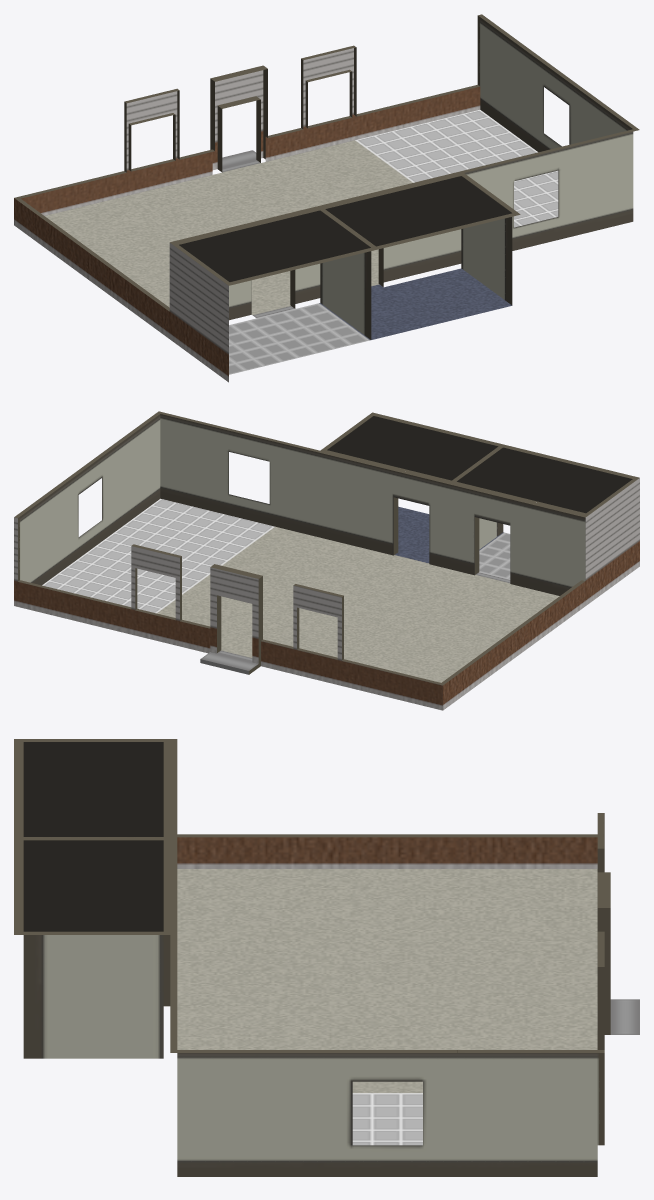
File: HouseModel_Version1.fbx
The picture shows the model from 3 angles, top to bottom: view 1: azimuth 30°, elevation 25°; view 2: azimuth 150°, elevation 25°; view 3: azimuth 270°, elevation 25°; orthographic projection. The views are drawn at different scales.
Visible parts, largest first — view 1: Wall_Segment50, Roof_Dark4; view 2: Wall_Segment50, Roof_Dark4; view 3: Wall_Segment50, Roof_Dark4.
Boxes of the visible parts, x1,y1,x2,y2 form: Wall_Segment50: (14,14,639,382); Roof_Dark4: (179,176,511,281); Wall_Segment50: (14,411,639,710); Roof_Dark4: (327,416,632,513); Wall_Segment50: (14,739,639,1176); Roof_Dark4: (23,742,163,931).
Size of the model in its own units: 424 by 83.74 by 357.
